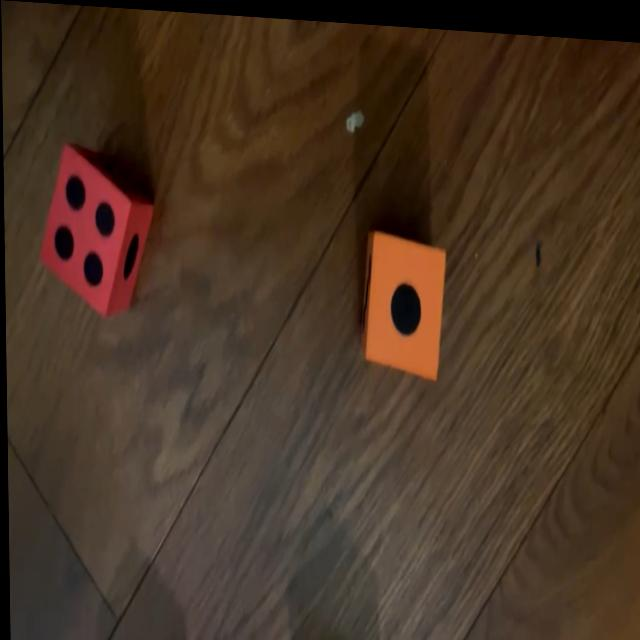cube: (36, 140, 152, 320)
